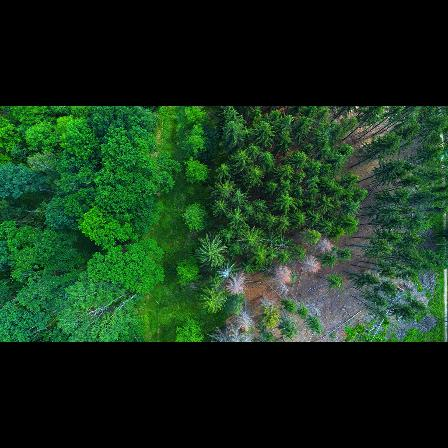Dead: (228, 274, 250, 298), (269, 263, 294, 283), (298, 256, 322, 274), (239, 310, 257, 331), (217, 265, 233, 282), (315, 240, 334, 251)
